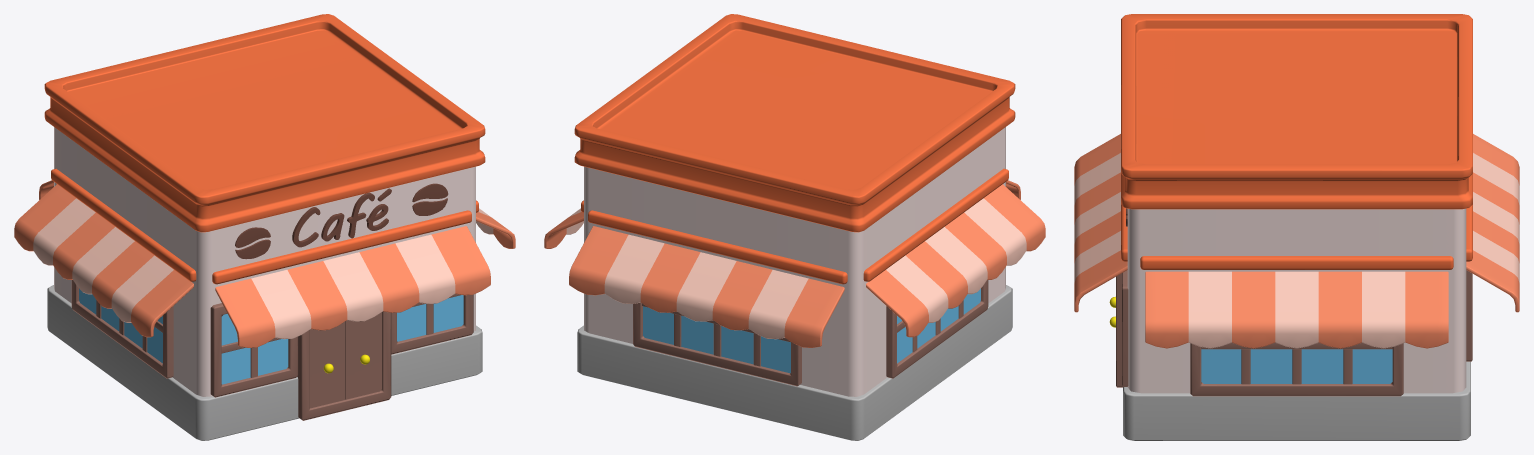
File: Store_5_Cafe_1.glb
The picture shows the model from 3 angles, left to right: view 1: azimuth 30°, elevation 25°; view 2: azimuth 150°, elevation 25°; view 3: azimuth 270°, elevation 25°; orthographic projection. The views are drawn at different scales.
Parts seen in each view (by area): view 1: Store_5_Cafe_1; view 2: Store_5_Cafe_1; view 3: Store_5_Cafe_1.
Part boxes in pixels (box(x1,y1,x2,y2)): Store_5_Cafe_1: box(14, 14, 515, 440); Store_5_Cafe_1: box(544, 14, 1045, 440); Store_5_Cafe_1: box(1074, 14, 1519, 440).
Size of the model in its own units: 10.29 by 6.62 by 9.79.
Materials: 1 (1 with a texture image).
